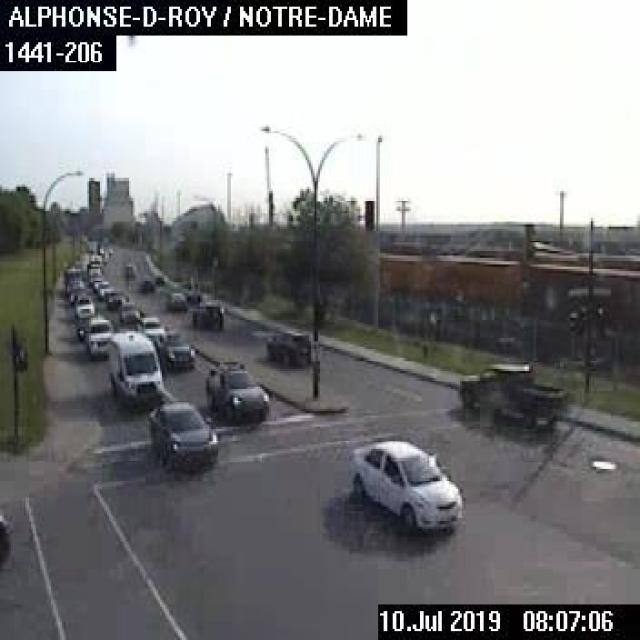vehicle: (346, 433, 466, 531), (456, 358, 571, 429), (143, 392, 220, 473), (105, 330, 165, 409), (202, 364, 273, 418), (153, 326, 196, 375), (262, 326, 313, 366), (84, 316, 114, 356), (190, 300, 226, 329), (135, 315, 162, 341), (63, 264, 83, 294), (116, 301, 140, 325), (105, 288, 128, 312), (74, 294, 94, 319), (166, 290, 186, 310), (96, 279, 114, 297), (68, 283, 84, 303), (138, 276, 154, 292), (75, 316, 85, 340), (184, 287, 201, 301), (91, 276, 102, 291), (124, 262, 132, 280), (154, 274, 163, 283)
